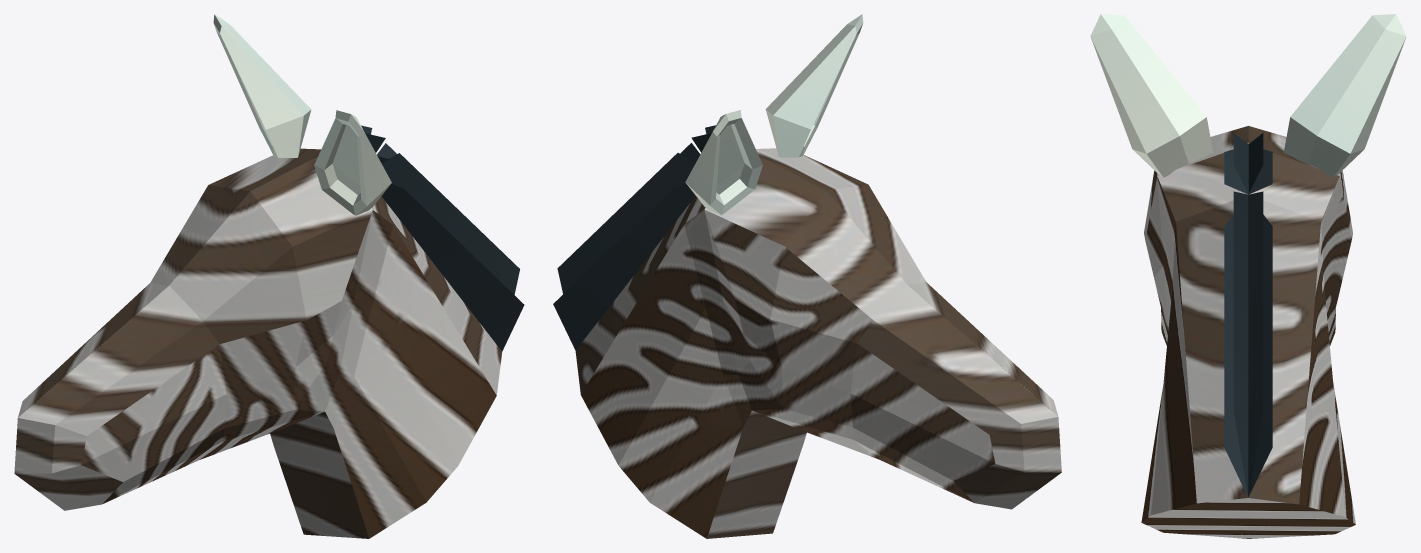
File: SM_Zebre_Head.fbx
The picture shows the model from 3 angles, left to right: view 1: azimuth 30°, elevation 25°; view 2: azimuth 150°, elevation 25°; view 3: azimuth 270°, elevation 25°; orthographic projection. The views are drawn at different scales.
Parts seen in each view (by area): view 1: SM_Zebre_Head; view 2: SM_Zebre_Head; view 3: SM_Zebre_Head.
Boxes of the visible parts, x1=… form: SM_Zebre_Head: x1=14, y1=14, x2=524, y2=538; SM_Zebre_Head: x1=553, y1=14, x2=1061, y2=538; SM_Zebre_Head: x1=1090, y1=14, x2=1406, y2=538.
Size of the model in its own units: 35.52 by 32.38 by 18.07.
